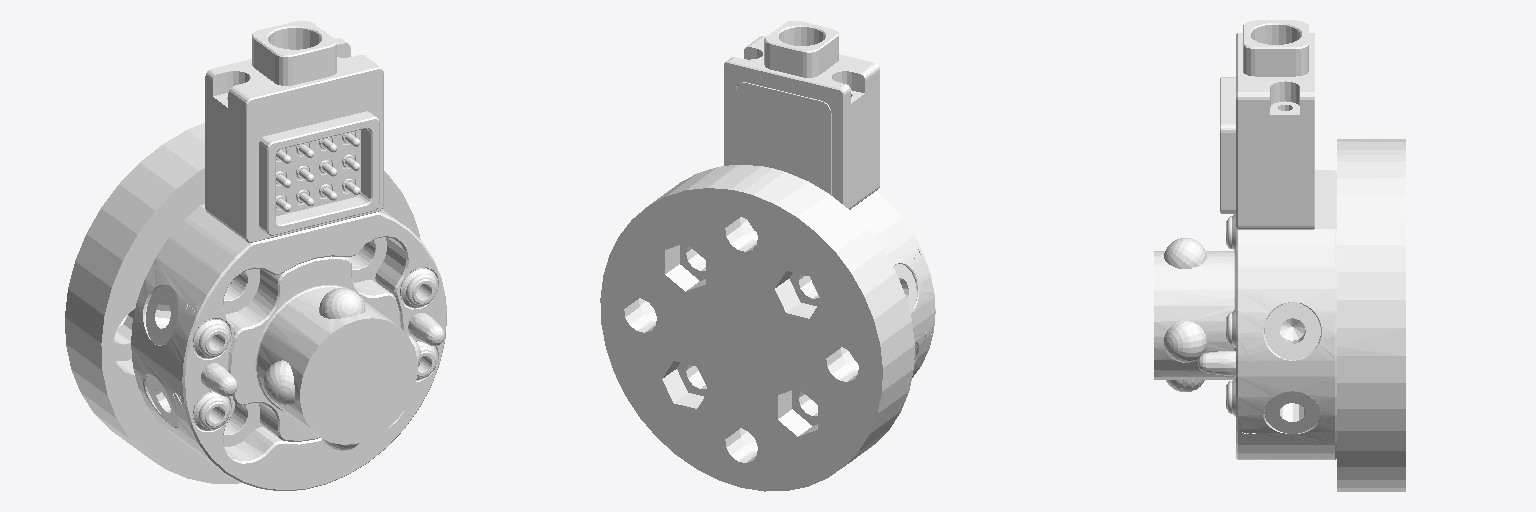
robot.urdf — Master_plate:
<?xml version="1.0" encoding="utf-8"?>
<!-- This URDF was automatically created by SolidWorks to URDF Exporter! Originally created by [author] ([email redacted]) 
     Commit Version: 1.6.0-1-g15f4949  Build Version: 1.6.7594.29634
     For more information, please see http://wiki.ros.org/sw_urdf_exporter -->
<robot
  name="Master_plate">
  <link
    name="base_link">
    <inertial>
      <origin
        xyz="-3.5419E-06 -0.007055 0.0041741"
        rpy="0 0 0" />
      <mass
        value="0.11085" />
      <inertia
        ixx="1.7246E-05"
        ixy="6.6524E-09"
        ixz="-6.5212E-09"
        iyy="2.5977E-05"
        iyz="1.2877E-09"
        izz="1.7421E-05" />
    </inertial>
    <visual>
      <origin
        xyz="0 0 0"
        rpy="0 0 0" />
      <geometry>
        <mesh
          filename="package://Master_plate/meshes/base_link.STL" />
      </geometry>
      <material
        name="">
        <color
          rgba="1 1 1 1" />
      </material>
    </visual>
    <collision>
      <origin
        xyz="0 0 0"
        rpy="0 0 0" />
      <geometry>
        <mesh
          filename="package://Master_plate/meshes/base_link.STL" />
      </geometry>
    </collision>
  </link>
</robot>

--- What the picture shows (computed from the rendered views, not written in the file) ---
The picture shows the robot from 3 angles, left to right: view 1: azimuth 30°, elevation 25°; view 2: azimuth 150°, elevation 25°; view 3: azimuth 270°, elevation 25°; orthographic projection.
Robot: Master_plate — 1 links, 0 joints (none); root link base_link; default pose: all joints at 0.
Visible links, largest first — view 1: base_link; view 2: base_link; view 3: base_link.
Link boxes in pixels (<box>): base_link: <box>65,20,446,490</box>; base_link: <box>600,21,935,491</box>; base_link: <box>1154,20,1405,491</box>.
Bounding box of the posed robot: 0.056 × 0.04 × 0.0772 m (x, y, z).
Meshes: 1 distinct files referenced, 1 mesh visuals loaded (1 binary STL).